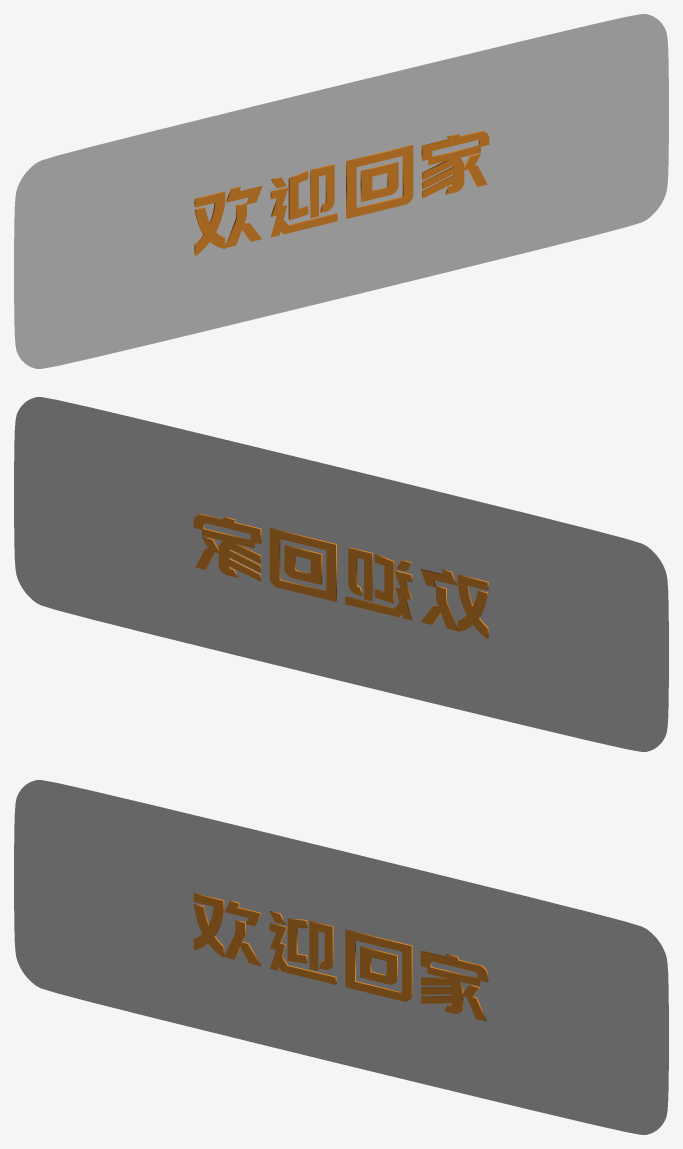
File: 欢迎回家提示牌.fbx
3 views of the same model, one above another, from view 1: azimuth 30°, elevation 25°; view 2: azimuth 150°, elevation 25°; view 3: azimuth 330°, elevation 25° (orthographic).
Visible parts, largest first — view 1: 平面; view 2: 平面; view 3: 平面.
Part boxes in pixels (x1,y1,x2,y2): 平面: [14, 14, 668, 368]; 平面: [14, 397, 668, 751]; 平面: [14, 780, 668, 1134].
Bounding box in the file's own units: 180 × 56.01 × 0.8815.
